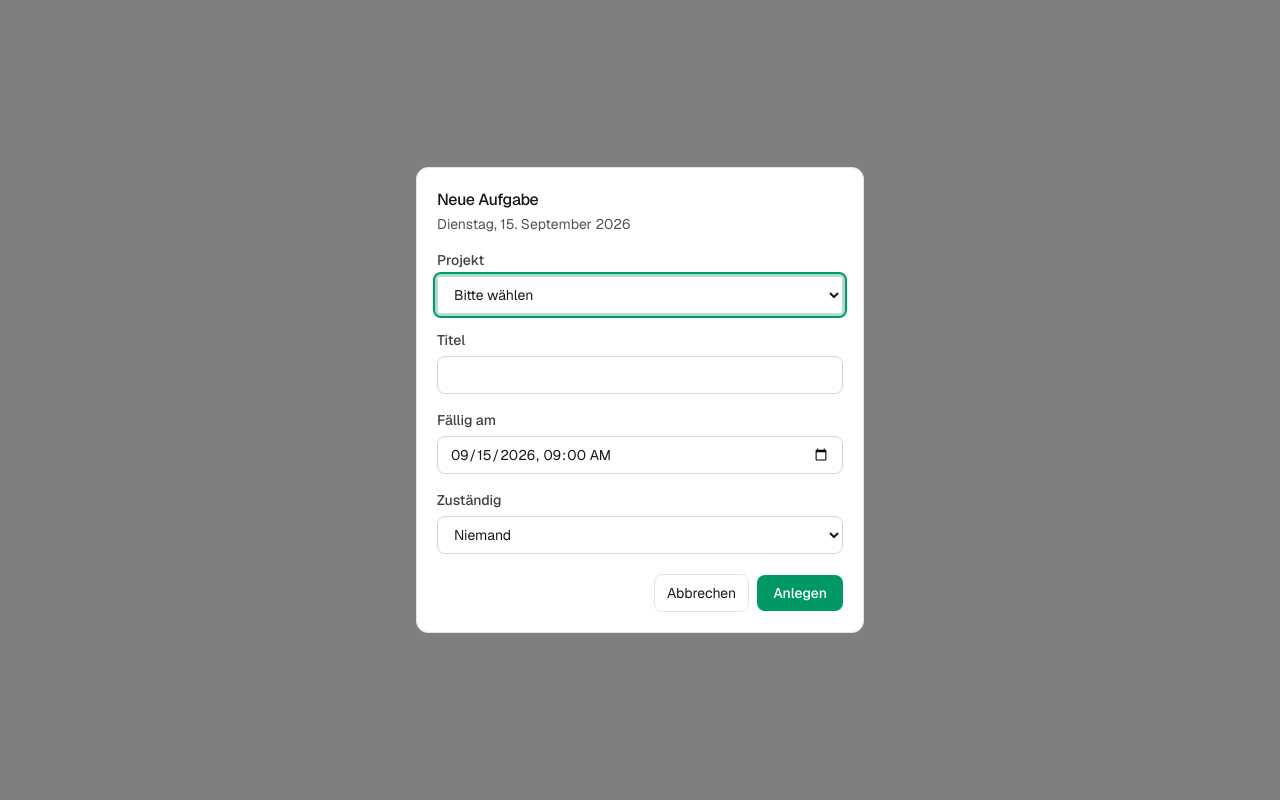
Test case: TerminDialog › legt nichts an, wenn der Titel zu kurz ist
The image size is (1280, 800).
Select "Website-Relaunch" in the dropdown labelled "Projekt". click: (640, 295)
box: [437,276,843,314]
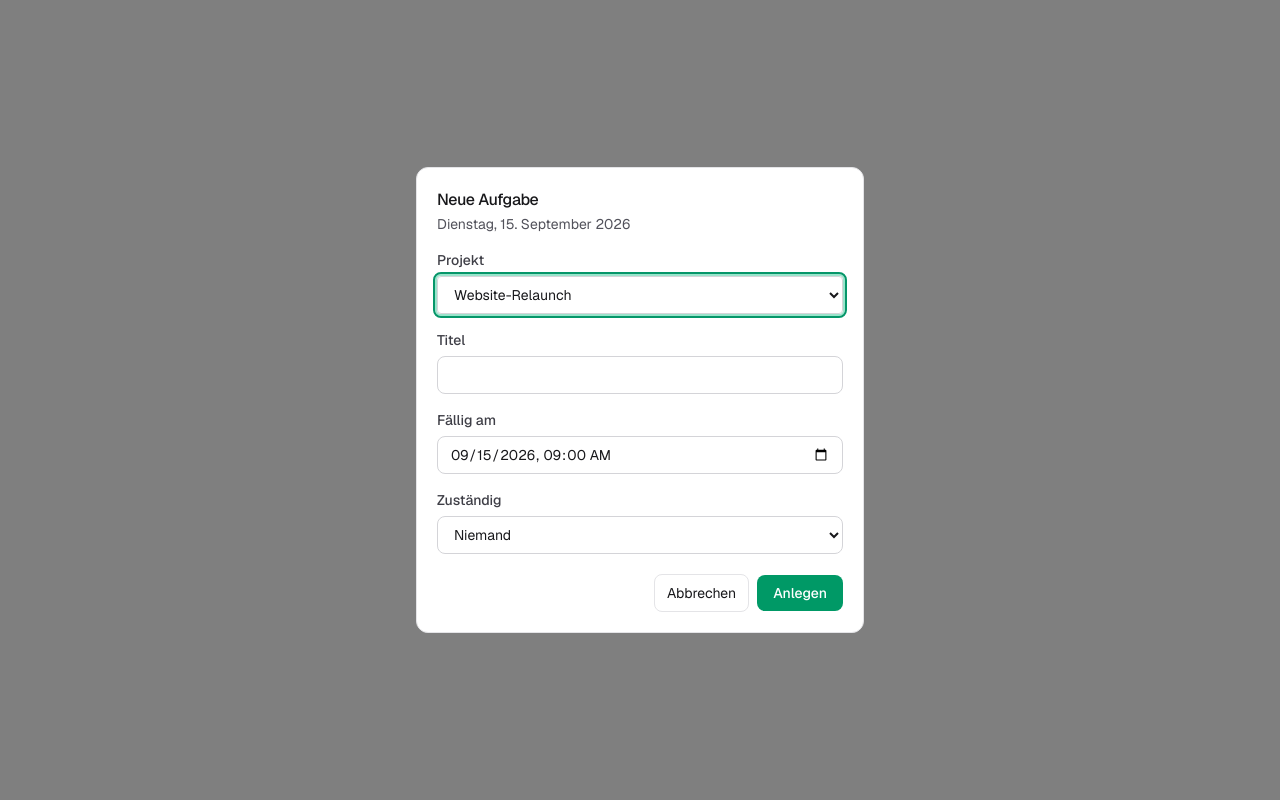
Type "A" into the field labelled "Titel". click: (640, 375)
box: [437,356,843,394]
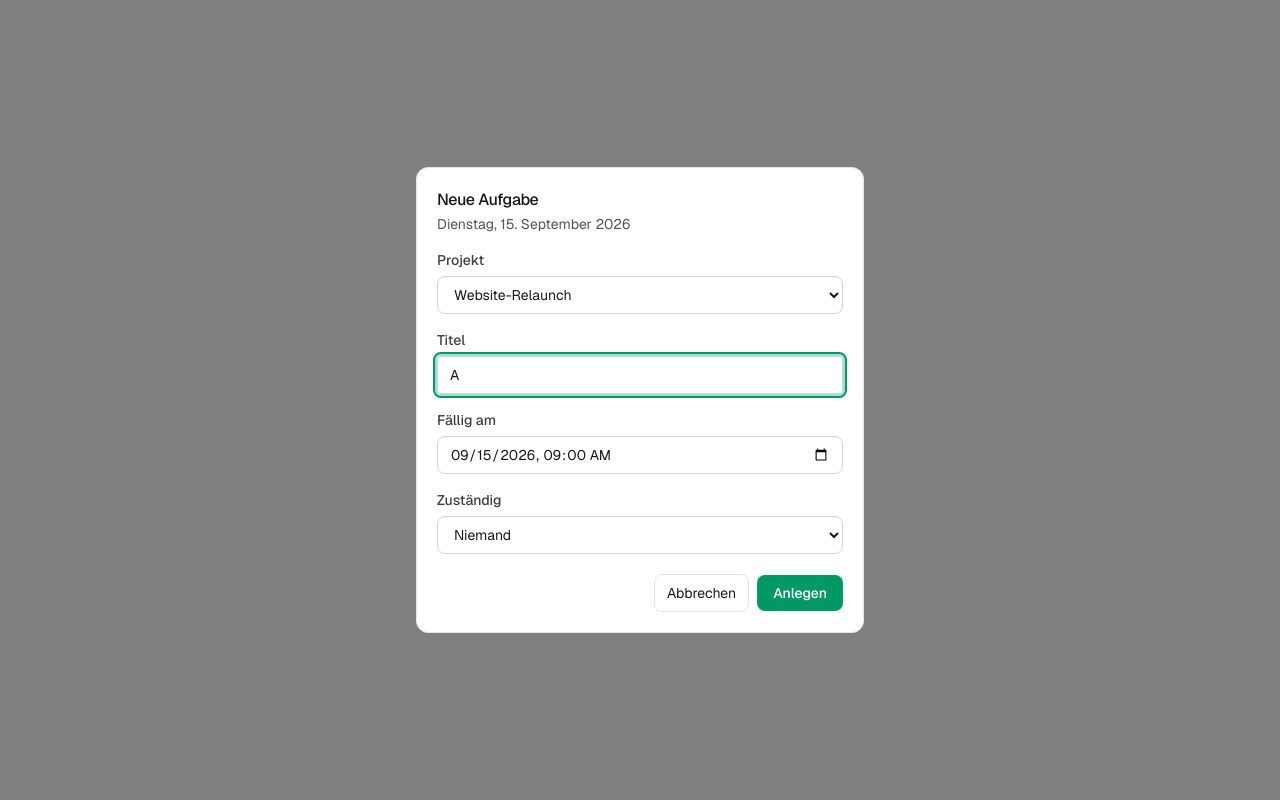
Click the button "Anlegen". click: (800, 593)
box: [757,575,843,611]
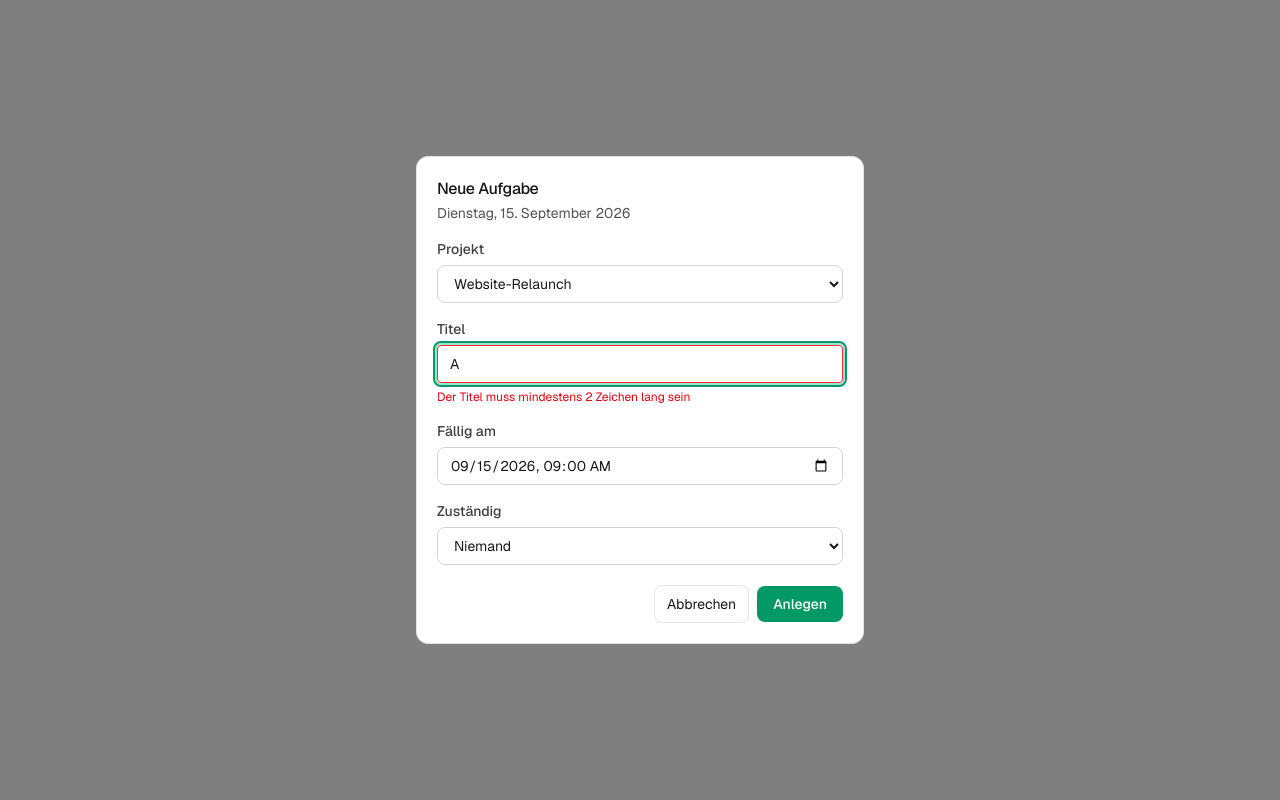
Expected: the text "Der Titel muss mindestens 2 Zeichen lang sein" is shown, [437,389,690,405]
